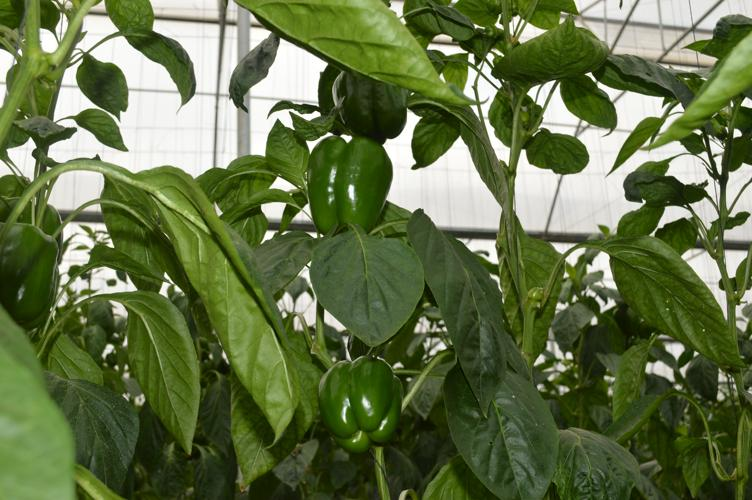BellPepper: (309, 138, 397, 237), (319, 355, 404, 453), (7, 222, 60, 325), (334, 69, 404, 142)
